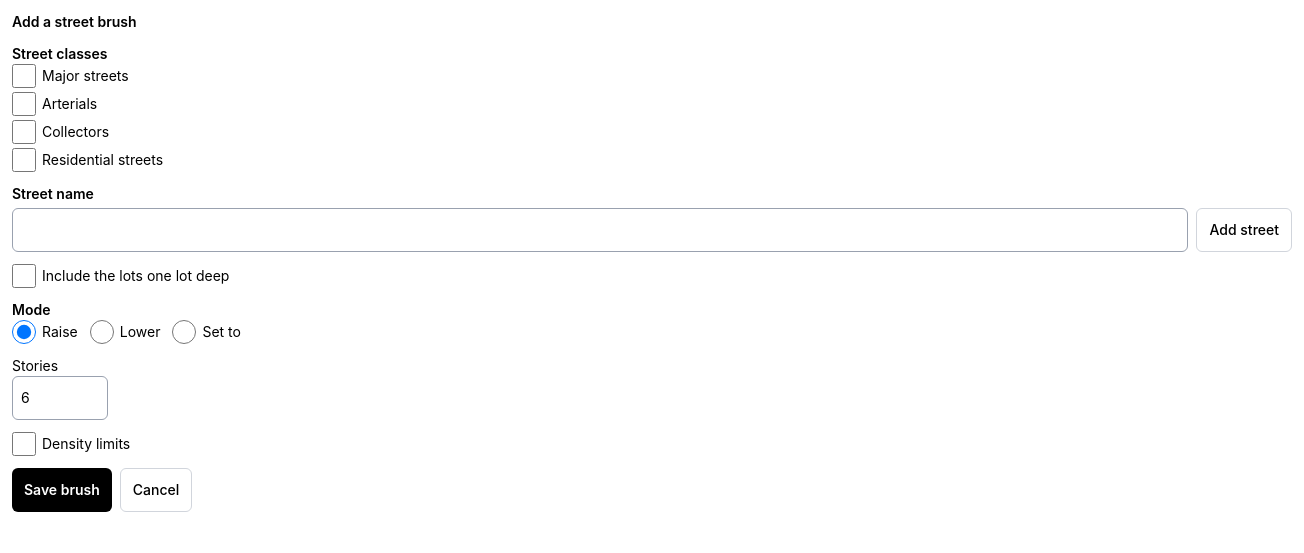
Test: RuleBrushForm › an unknown street name is an alert
Step 1. Type "Nowhere Ln" into the field labelled "Street name" → (600, 230), box [12, 208, 1188, 252]
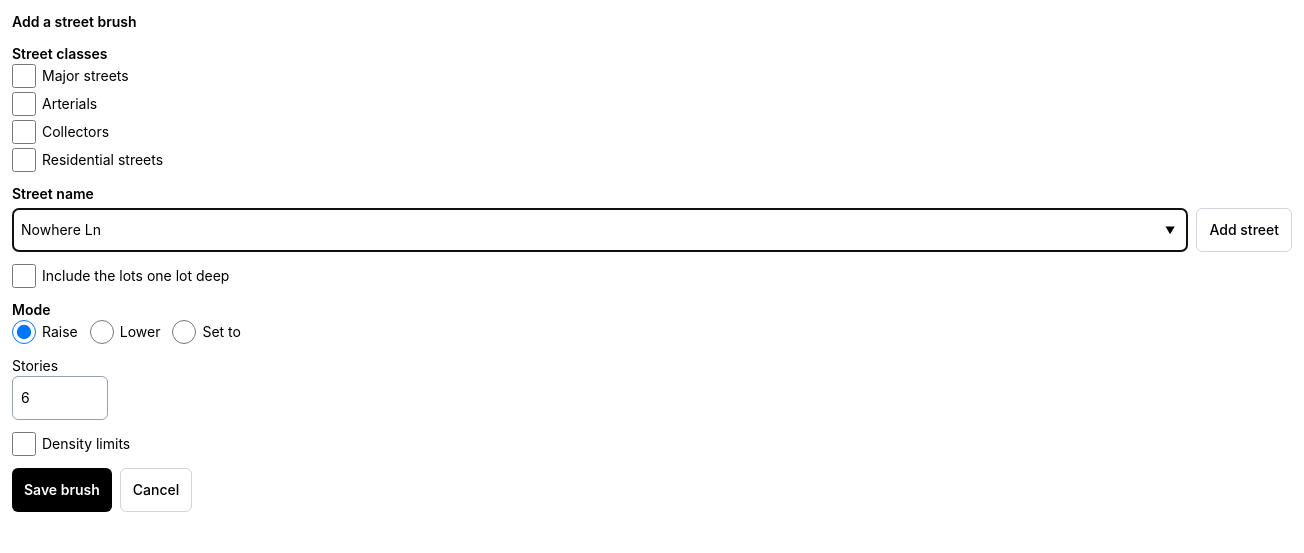
Step 2. Click the button "Add street" → (1244, 230), box [1196, 208, 1292, 252]
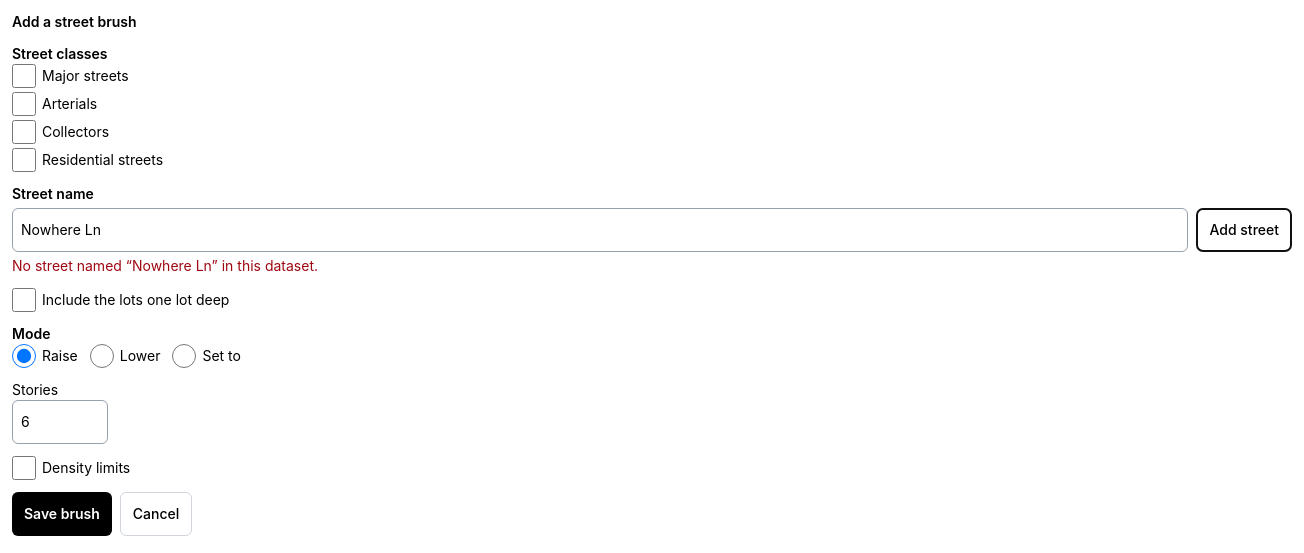
expect the message reads "No street named “Nowhere Ln” in this dataset.": met, box [12, 257, 318, 274]
